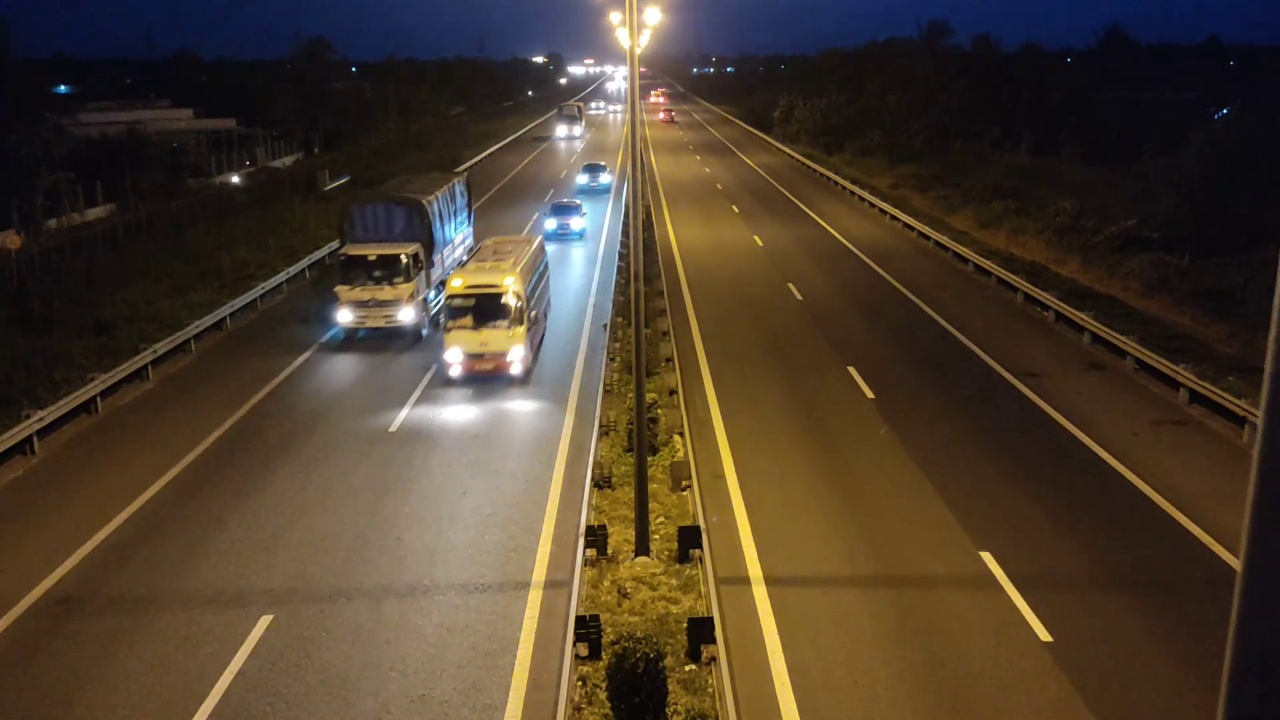bus: (440, 234, 553, 386)
car: (542, 198, 588, 241), (575, 161, 614, 193)
truck: (332, 168, 476, 344)
